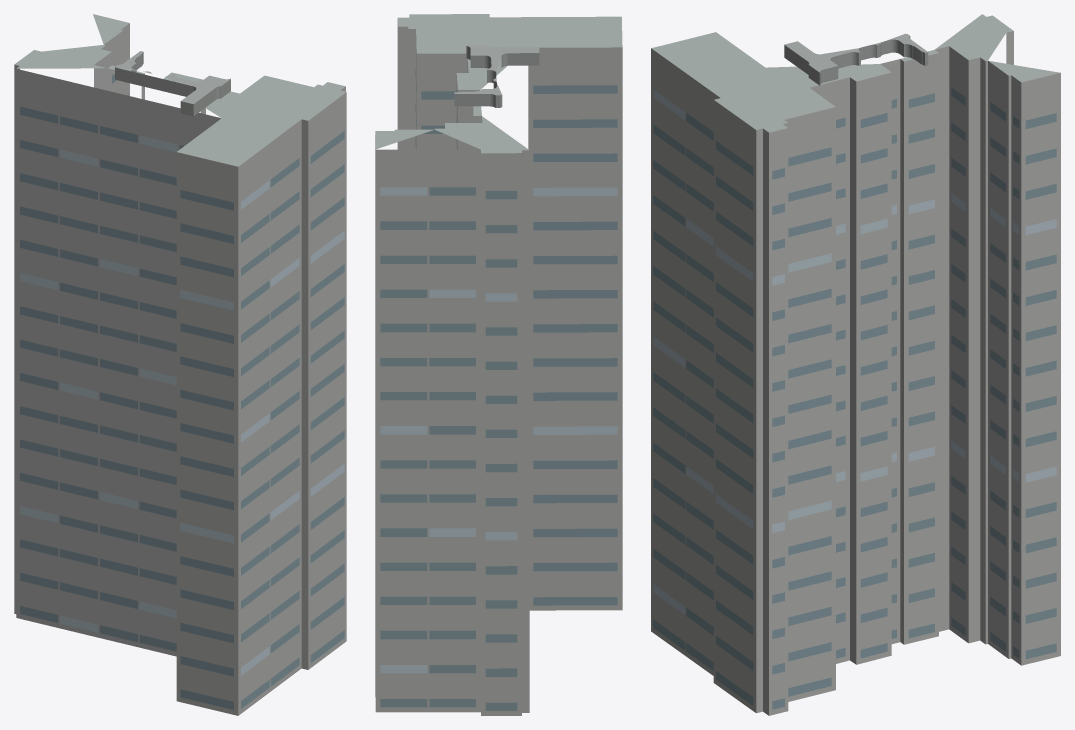
The model's file is fallback-acro-riverpark-104.glb.
3 views of the same model, side by side, from view 1: azimuth 30°, elevation 25°; view 2: azimuth 150°, elevation 25°; view 3: azimuth 270°, elevation 25° (orthographic). The views are drawn at different scales.
Parts seen in each view (by area): view 1: fallback-acro-riverpark-104; view 2: fallback-acro-riverpark-104; view 3: fallback-acro-riverpark-104.
Boxes of the visible parts, x1,y1,x2,y2 form: fallback-acro-riverpark-104: (14, 14, 346, 715); fallback-acro-riverpark-104: (375, 14, 622, 715); fallback-acro-riverpark-104: (651, 14, 1060, 715).
Bounding box in the file's own units: 46.99 × 110 × 68.52.
